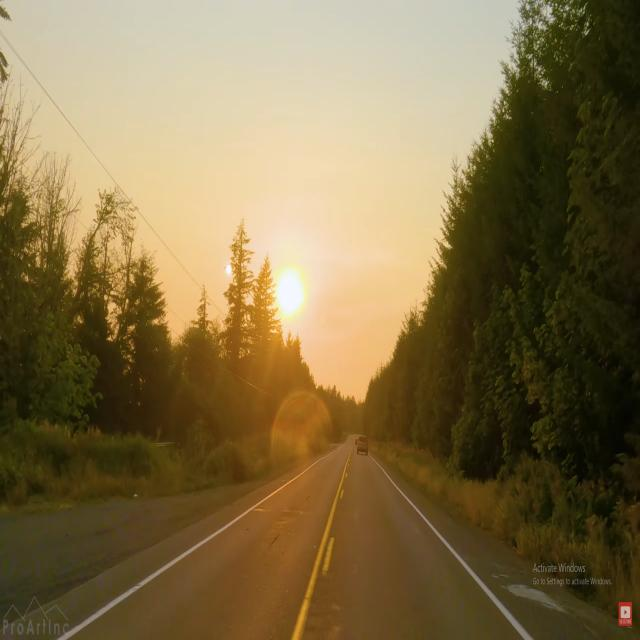sun: (270, 254, 310, 318)
